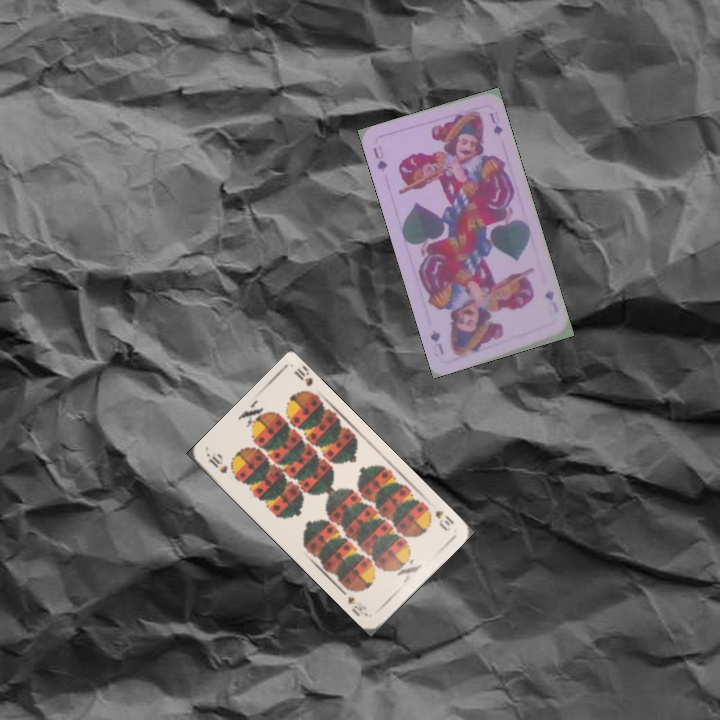GU: (369, 142, 390, 174), (541, 285, 561, 315)
S10: (421, 502, 457, 534), (204, 451, 230, 476)
